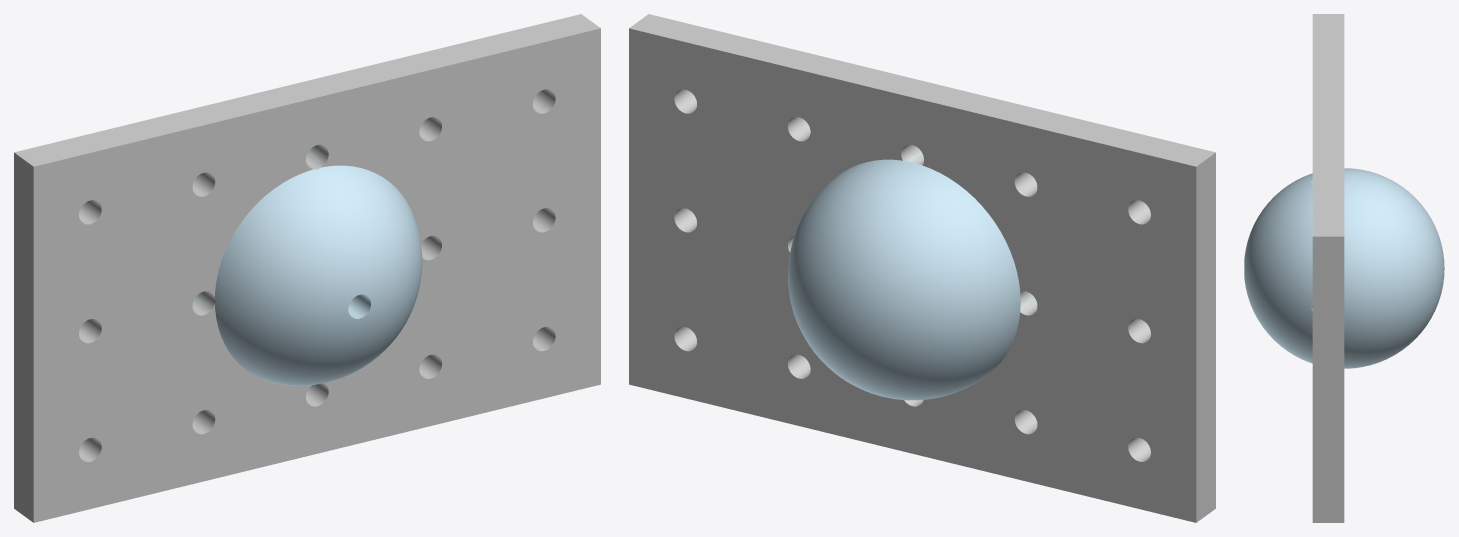
The picture shows the model from 3 angles, left to right: view 1: azimuth 30°, elevation 25°; view 2: azimuth 150°, elevation 25°; view 3: azimuth 270°, elevation 25°; orthographic projection. The views are drawn at different scales.
Visible parts, largest first — view 1: Part 2, Part 1; view 2: Part 2, Part 1; view 3: Part 1, Part 2.
Part boxes in pixels (<box>): Part 2: <box>14,14,600,522</box>; Part 1: <box>195,150,422,385</box>; Part 2: <box>629,14,1215,522</box>; Part 1: <box>788,153,1032,400</box>; Part 1: <box>1244,168,1444,368</box>; Part 2: <box>1312,14,1344,522</box>.
Bounding box in the file's own units: 0.2 × 0.12 × 0.076.
